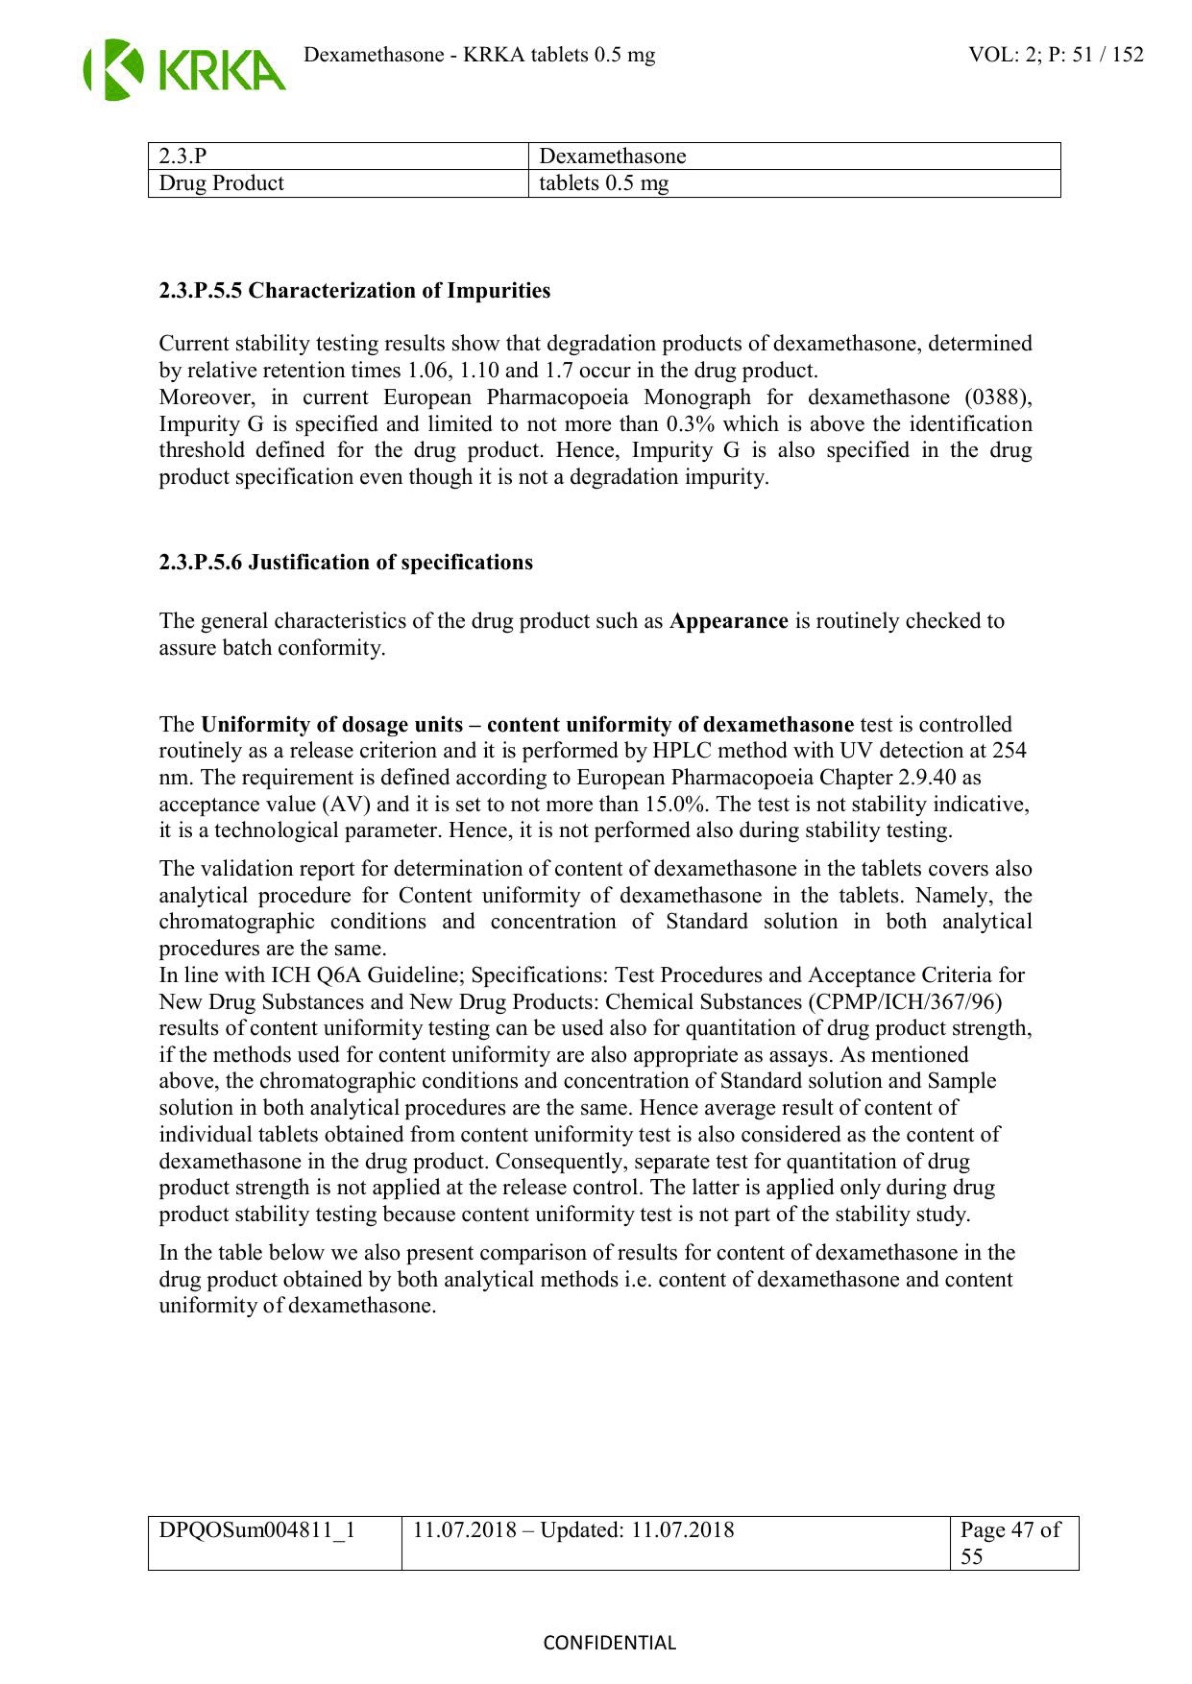full_lined: (147, 141, 1063, 199), (147, 1515, 1081, 1572)
